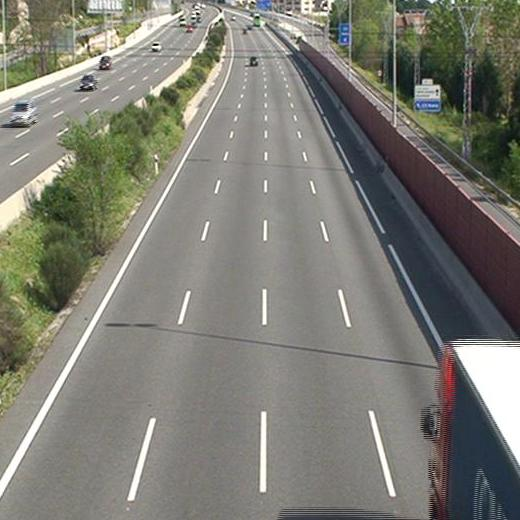car: (249, 56, 258, 65)
